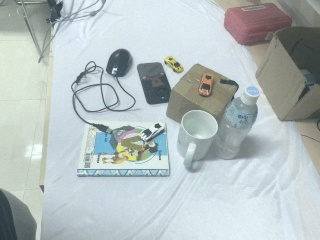bottle: (218, 84, 261, 162)
box: (255, 25, 320, 122), (167, 63, 239, 122)
cup: (176, 108, 220, 171)
mouse: (106, 48, 133, 78)
phone: (137, 61, 172, 105)
toy_car: (137, 118, 168, 144), (196, 73, 216, 98), (164, 55, 184, 73)
